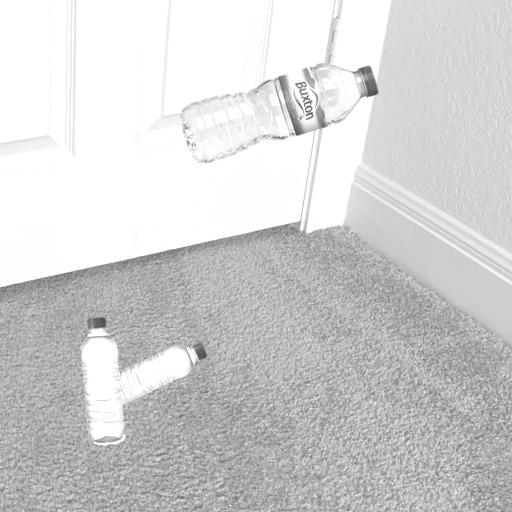bottle: (168, 42, 384, 174), (62, 314, 132, 446), (120, 334, 216, 412)
